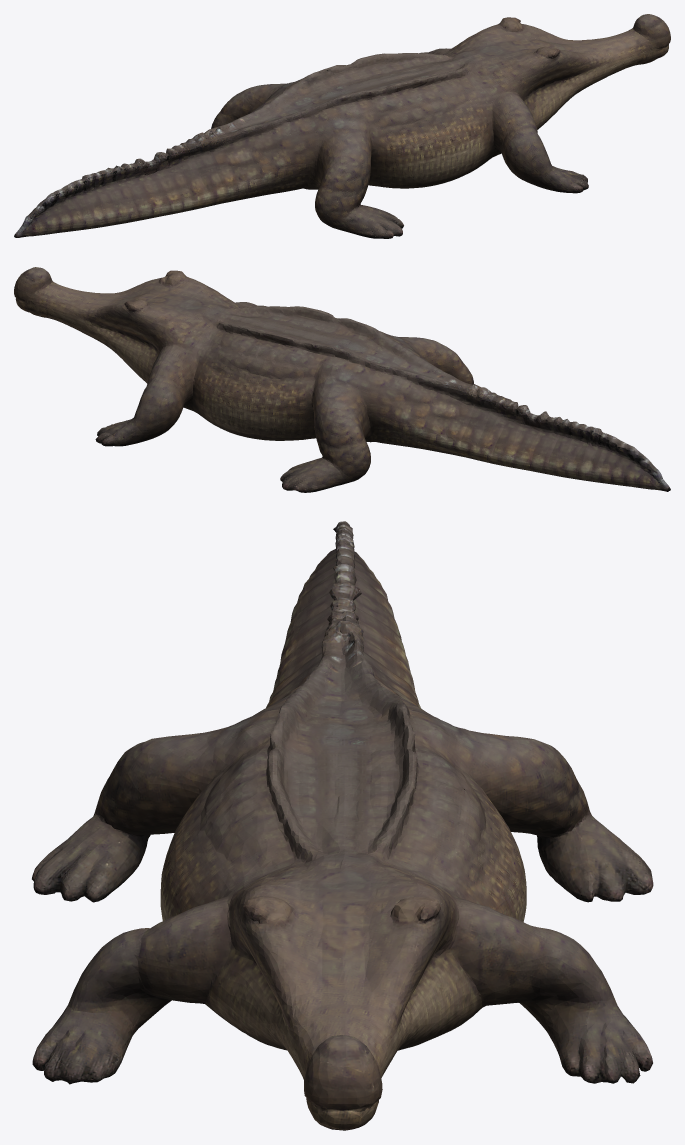
The picture shows the model from 3 angles, top to bottom: view 1: azimuth 30°, elevation 25°; view 2: azimuth 150°, elevation 25°; view 3: azimuth 270°, elevation 25°; orthographic projection. The views are drawn at different scales.
Visible parts, largest first — view 1: world; view 2: world; view 3: world.
Part boxes in pixels (x1=…): world: x1=14, y1=14, x2=670, y2=238; world: x1=14, y1=267, x2=670, y2=492; world: x1=32, y1=521, x2=653, y2=1130.
Size of the model in its own units: 0.9973 by 0.144 by 0.4114.
Materials: 1 (1 with a texture image).
